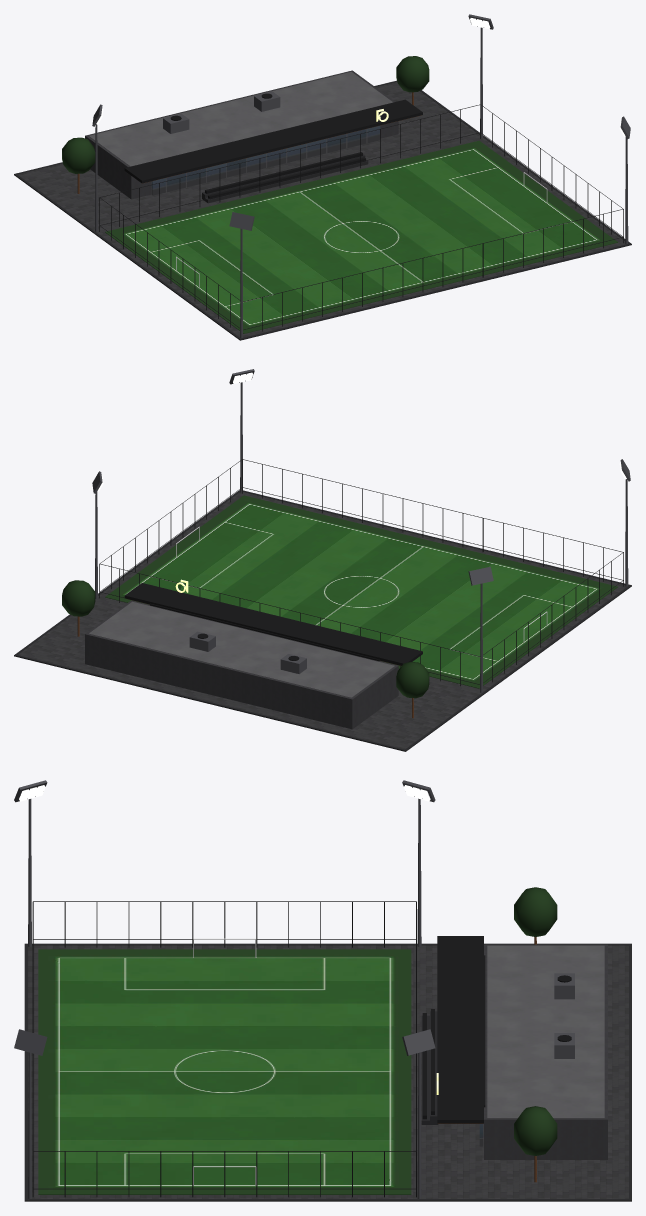
The model's file is training_L2.glb.
3 renders of one model, top to bottom at view 1: azimuth 30°, elevation 25°; view 2: azimuth 150°, elevation 25°; view 3: azimuth 270°, elevation 25°, orthographic. The views are drawn at different scales.
Parts seen in each view (by area): view 1: turf_train_training_L2, paving_training_L2, black_metal_training_L2, roofing_training_L2, concrete_dark_training_L2, emissive_curtain_training_L2, steel_training_L2, cladding_training_L2, foliage_training_L2; view 2: turf_train_training_L2, paving_training_L2, roofing_training_L2, cladding_training_L2, black_metal_training_L2, concrete_dark_training_L2, steel_training_L2, foliage_training_L2; view 3: turf_train_training_L2, paving_training_L2, roofing_training_L2, black_metal_training_L2, concrete_dark_training_L2, cladding_training_L2, steel_training_L2, foliage_training_L2.
Part boxes in pixels (x1=…): turf_train_training_L2: x1=105, y1=140, x2=617, y2=333; paving_training_L2: x1=17, y1=82, x2=625, y2=337; black_metal_training_L2: x1=99, y1=93, x2=623, y2=331; roofing_training_L2: x1=89, y1=72, x2=392, y2=166; concrete_dark_training_L2: x1=14, y1=80, x2=631, y2=340; emissive_curtain_training_L2: x1=151, y1=125, x2=380, y2=195; steel_training_L2: x1=92, y1=14, x2=630, y2=337; cladding_training_L2: x1=85, y1=70, x2=398, y2=199; foliage_training_L2: x1=62, y1=56, x2=429, y2=173; turf_train_training_L2: x1=105, y1=495, x2=617, y2=688; paving_training_L2: x1=18, y1=492, x2=626, y2=749; roofing_training_L2: x1=89, y1=601, x2=394, y2=697; cladding_training_L2: x1=85, y1=600, x2=398, y2=729; black_metal_training_L2: x1=99, y1=459, x2=623, y2=686; concrete_dark_training_L2: x1=14, y1=490, x2=631, y2=751; steel_training_L2: x1=92, y1=369, x2=630, y2=692; foliage_training_L2: x1=62, y1=580, x2=429, y2=698; turf_train_training_L2: x1=38, y1=949, x2=411, y2=1194; paving_training_L2: x1=28, y1=945, x2=628, y2=1198; roofing_training_L2: x1=487, y1=945, x2=604, y2=1118; black_metal_training_L2: x1=32, y1=901, x2=571, y2=1197; concrete_dark_training_L2: x1=24, y1=943, x2=631, y2=1201; cladding_training_L2: x1=484, y1=944, x2=607, y2=1159; steel_training_L2: x1=14, y1=780, x2=574, y2=1198; foliage_training_L2: x1=514, y1=887, x2=557, y2=1155.
Bounding box in the file's own units: 60.05 × 17.58 × 59.65.
Materials: 13 (6 with a texture image).
